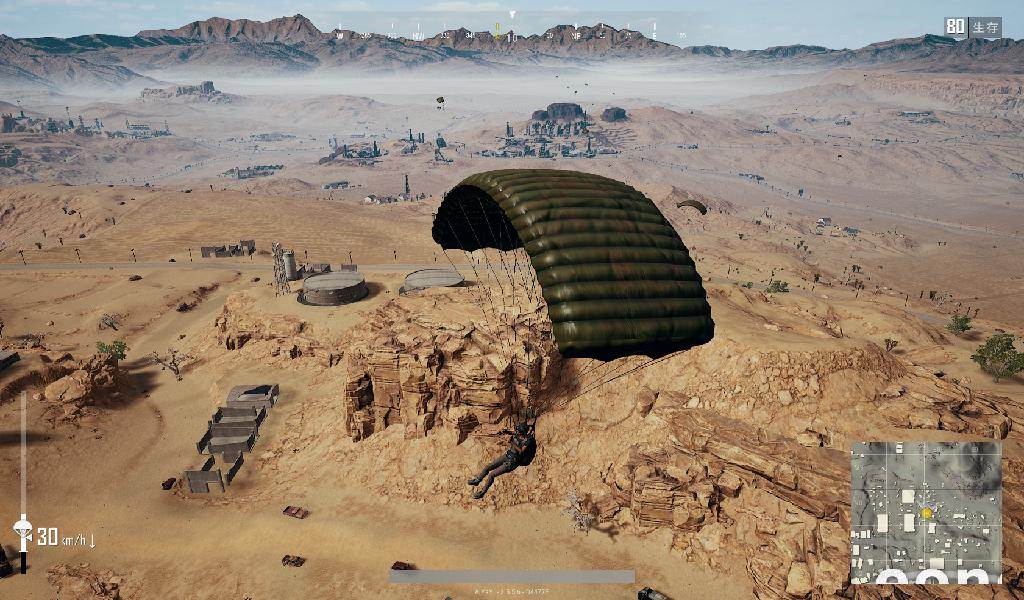Target Person: (465, 418, 540, 503)
